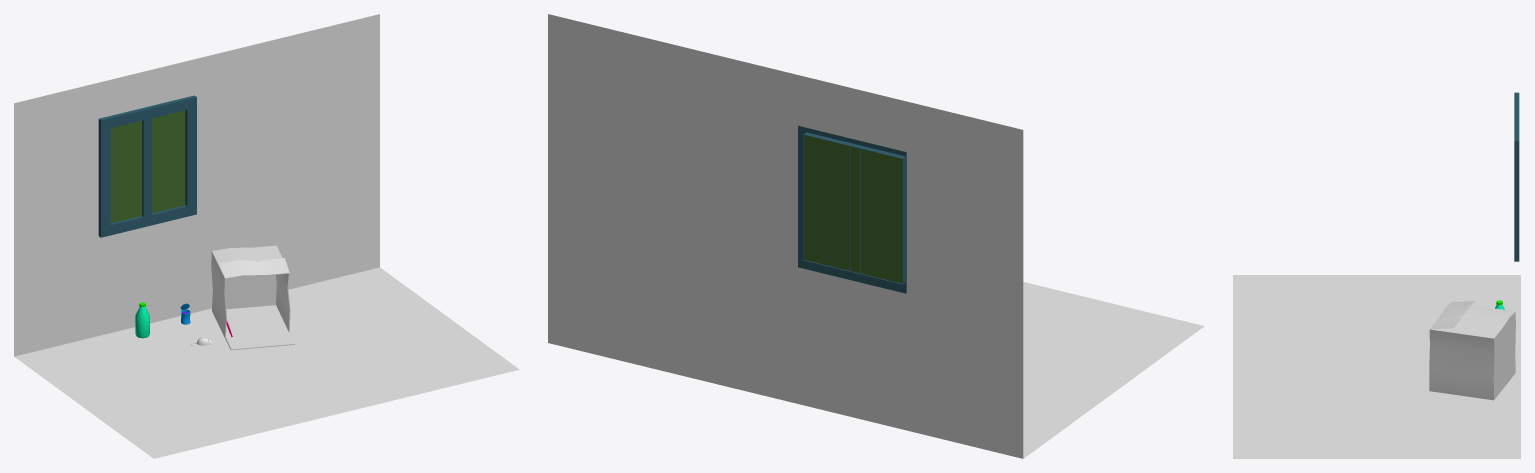
File: House 1.fbx
3 renders of one model, left to right at view 1: azimuth 30°, elevation 25°; view 2: azimuth 150°, elevation 25°; view 3: azimuth 270°, elevation 25°, orthographic. The views are drawn at different scales.
Parts seen in each view (by area): view 1: Wall1, Floor, Window1, Box; view 2: Wall1, Floor, Window1; view 3: Floor, Box, Window1.
Boxes of the visible parts, x1,y1,x2,y2 form: Wall1: (14, 14, 379, 356); Floor: (14, 267, 519, 458); Window1: (98, 95, 196, 237); Box: (211, 245, 295, 350); Wall1: (548, 14, 1023, 458); Floor: (1023, 282, 1204, 458); Window1: (798, 125, 906, 293); Floor: (1233, 275, 1520, 458); Box: (1401, 301, 1515, 400); Window1: (1514, 92, 1519, 261).
Bounding box in the file's own units: 343 × 227 × 227.
